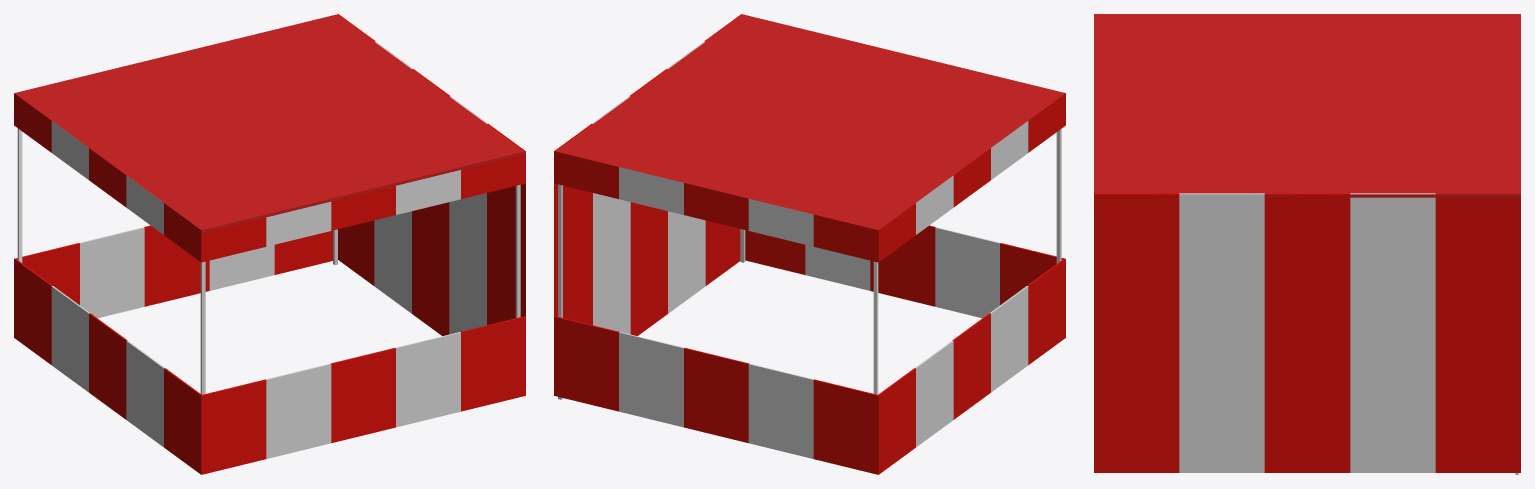
Rendered from booth2.fbx.
The picture shows the model from 3 angles, left to right: view 1: azimuth 30°, elevation 25°; view 2: azimuth 150°, elevation 25°; view 3: azimuth 270°, elevation 25°; orthographic projection. The views are drawn at different scales.
Visible parts, largest first — view 1: Cube.006, Cube.004, Cube.001, Cube.005, Cube.011, Cube.000, Cube.014, Cube.002, Cube.010, Cube.008; view 2: Cube.006, Cube.011, Cube.001, Cube.005, Cube.004, Cube.007, Cube.014, Cube.008, Cube.002, Cube.009; view 3: Cube.001, Cube.006.
Boxes of the visible parts, <box> form: Cube.006: <box>14,14,525,232</box>; Cube.004: <box>201,316,525,474</box>; Cube.001: <box>337,14,525,335</box>; Cube.005: <box>14,258,202,474</box>; Cube.011: <box>16,225,332,318</box>; Cube.000: <box>201,154,525,262</box>; Cube.014: <box>14,93,201,261</box>; Cube.002: <box>200,261,205,394</box>; Cube.010: <box>515,185,520,317</box>; Cube.008: <box>17,128,22,262</box>; Cube.006: <box>556,14,1065,230</box>; Cube.011: <box>554,316,878,474</box>; Cube.001: <box>554,14,742,335</box>; Cube.005: <box>877,258,1065,474</box>; Cube.004: <box>745,225,1063,318</box>; Cube.007: <box>554,151,878,262</box>; Cube.014: <box>878,93,1065,261</box>; Cube.008: <box>873,261,878,394</box>; Cube.002: <box>1056,129,1061,263</box>; Cube.009: <box>558,184,562,399</box>; Cube.001: <box>1094,193,1520,472</box>; Cube.006: <box>1094,14,1520,197</box>.
Bounding box in the file's own units: 282 × 206 × 281.
